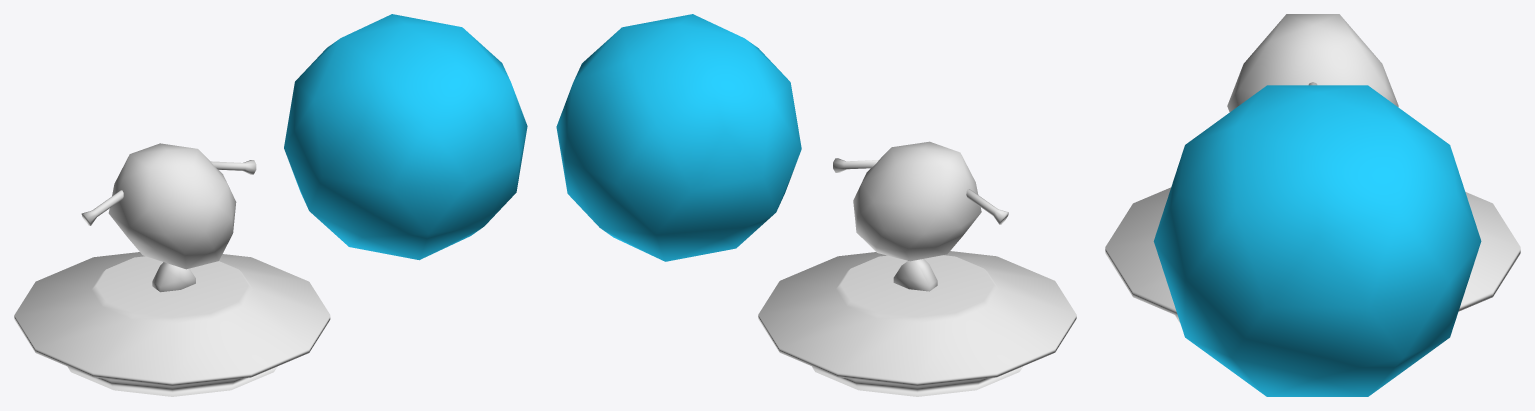
Rendered from ufo2.fbx.
3 views of the same model, side by side, from view 1: azimuth 30°, elevation 25°; view 2: azimuth 150°, elevation 25°; view 3: azimuth 270°, elevation 25° (orthographic). The views are drawn at different scales.
Parts seen in each view (by area): view 1: Cylinder.001, Cylinder, Icosphere; view 2: Cylinder.001, Cylinder, Icosphere; view 3: Cylinder.001, Icosphere, Cylinder.
Part boxes in pixels (<box>): Cylinder.001: <box>284,14,527,260</box>; Cylinder: <box>14,252,330,396</box>; Icosphere: <box>81,143,256,292</box>; Cylinder.001: <box>556,14,801,261</box>; Cylinder: <box>758,251,1076,396</box>; Icosphere: <box>833,141,1008,291</box>; Cylinder.001: <box>1153,85,1481,396</box>; Icosphere: <box>1227,14,1398,111</box>; Cylinder: <box>1105,187,1520,322</box>.
Size of the model in its own units: 742 by 406 by 428.
